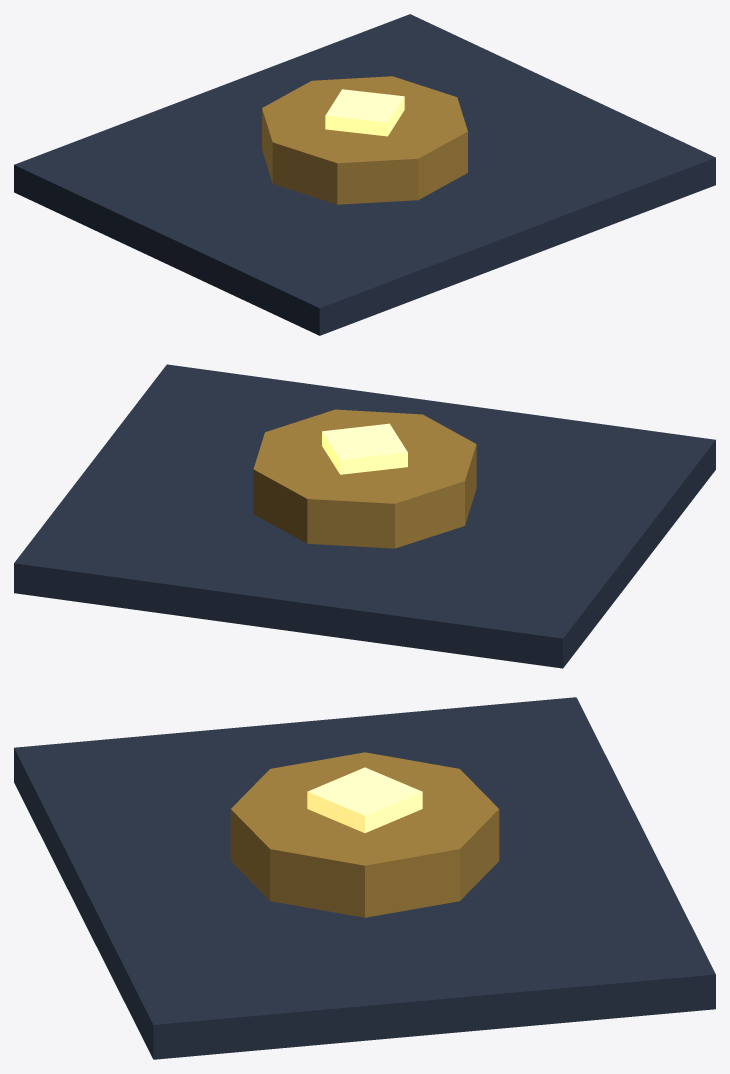
The model's file is brass_button.glb.
3 views of the same model, one above another, from view 1: azimuth 30°, elevation 25°; view 2: azimuth 150°, elevation 25°; view 3: azimuth 270°, elevation 25° (orthographic). The views are drawn at different scales.
Visible parts, largest first — view 1: brass_button; view 2: brass_button; view 3: brass_button.
Part boxes in pixels (x1,y1,x2,y2): brass_button: [14, 14, 715, 335]; brass_button: [14, 364, 715, 668]; brass_button: [14, 697, 715, 1059].
Bounding box in the file's own units: 0.0809 × 0.012 × 0.0732.
